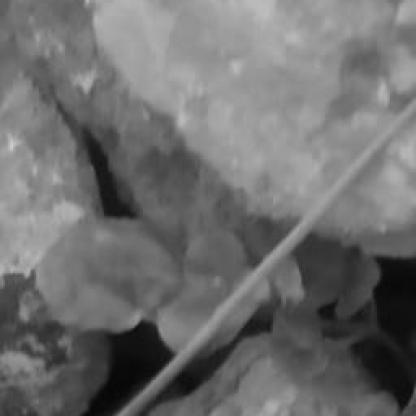wires: (114, 94, 414, 414)
